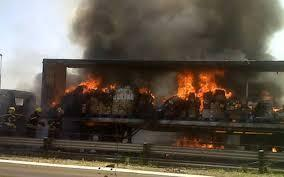fire: (59, 74, 241, 110), (174, 135, 230, 156), (264, 145, 277, 153)
